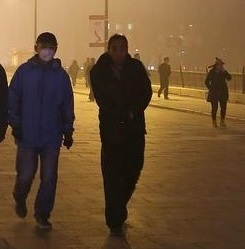person: (86, 30, 152, 237), (9, 32, 76, 232), (204, 57, 232, 128), (1, 64, 11, 145), (156, 55, 172, 101), (85, 57, 97, 101), (67, 59, 80, 87)
